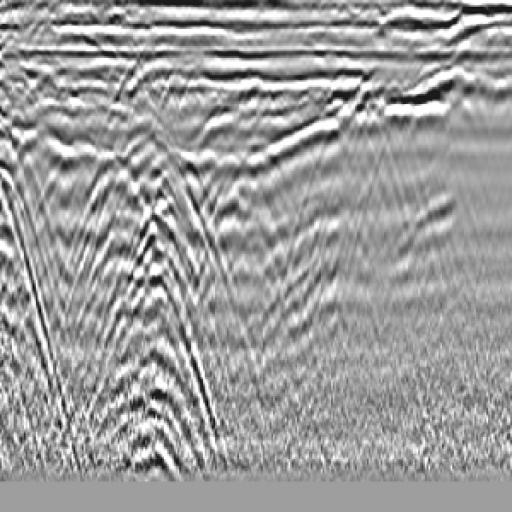metalic: (188, 87, 308, 292)
